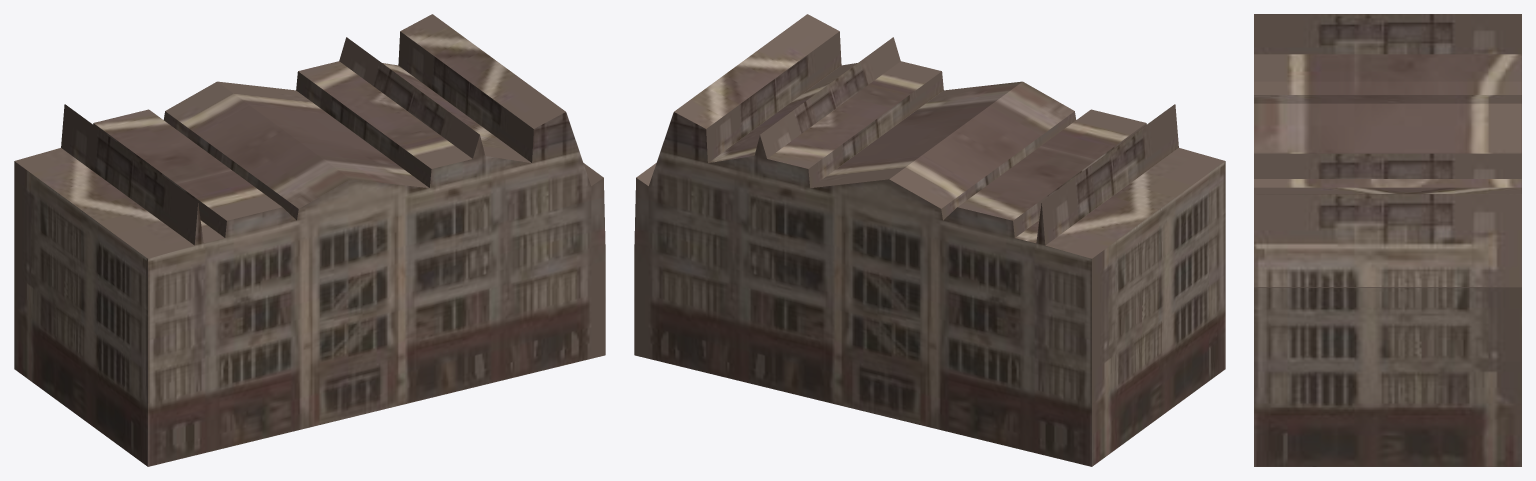
File: bg_city_building_4_lod1.glb
3 renders of one model, left to right at view 1: azimuth 30°, elevation 25°; view 2: azimuth 150°, elevation 25°; view 3: azimuth 270°, elevation 25°, orthographic.
Parts seen in each view (by area): view 1: body; view 2: body; view 3: body.
Boxes of the visible parts, bbox=[...] form: body: bbox=[14, 14, 605, 466]; body: bbox=[634, 14, 1225, 466]; body: bbox=[1254, 14, 1521, 466].
Bounding box in the file's own units: 10 × 5.29 × 5.06.
Materials: 1 (1 with a texture image).
